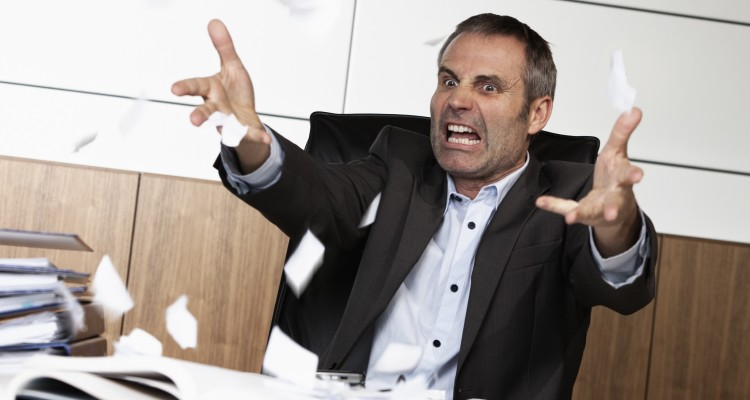angry: (424, 48, 527, 190)
